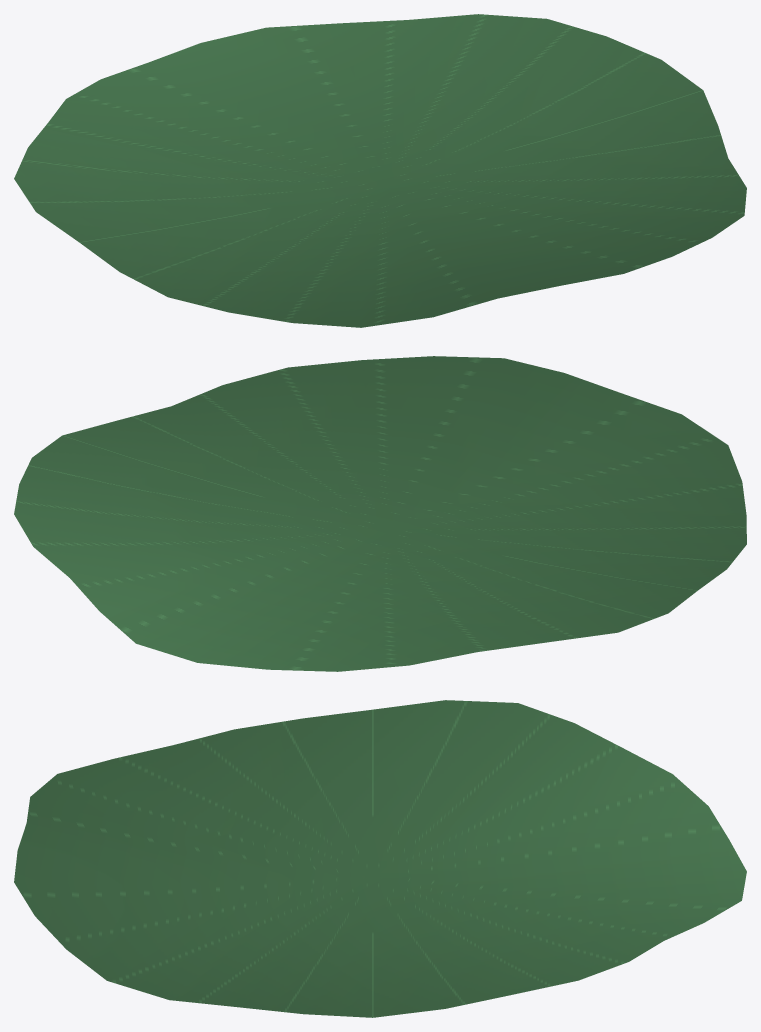
Rendered from CP03-L01-leaf-single.glb.
The picture shows the model from 3 angles, top to bottom: view 1: azimuth 30°, elevation 25°; view 2: azimuth 150°, elevation 25°; view 3: azimuth 270°, elevation 25°; orthographic projection.
Visible parts, largest first — view 1: CP03-L01-leaf-single; view 2: CP03-L01-leaf-single; view 3: CP03-L01-leaf-single.
Part boxes in pixels (x1,y1,x2,y2): CP03-L01-leaf-single: (14, 14, 746, 327); CP03-L01-leaf-single: (14, 356, 746, 671); CP03-L01-leaf-single: (14, 700, 746, 1017).
Bounding box in the file's own units: 1.58 × 0.06 × 1.57.
1 material, 1 textured.
